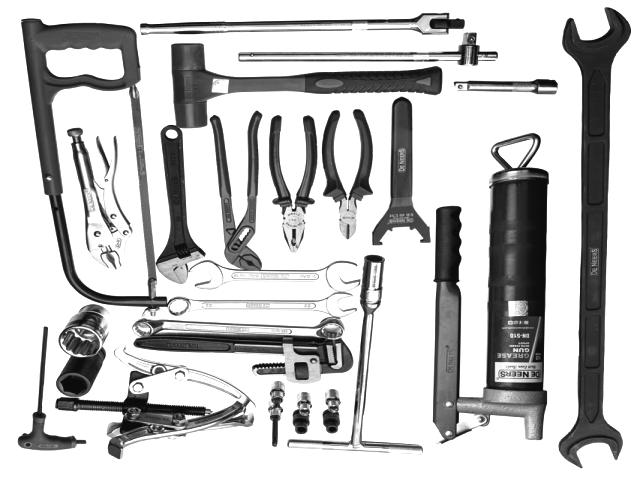Adjustable spanner: (156, 125, 205, 283)
Backsaw: (20, 18, 168, 316)
Cutting pliers: (322, 110, 372, 239)
Gas wrench: (210, 111, 262, 271)
Hammer: (171, 44, 442, 128)
Pliers: (269, 115, 318, 252)
Wrench: (559, 9, 631, 467), (190, 261, 360, 291), (168, 293, 356, 318), (132, 318, 344, 338)
